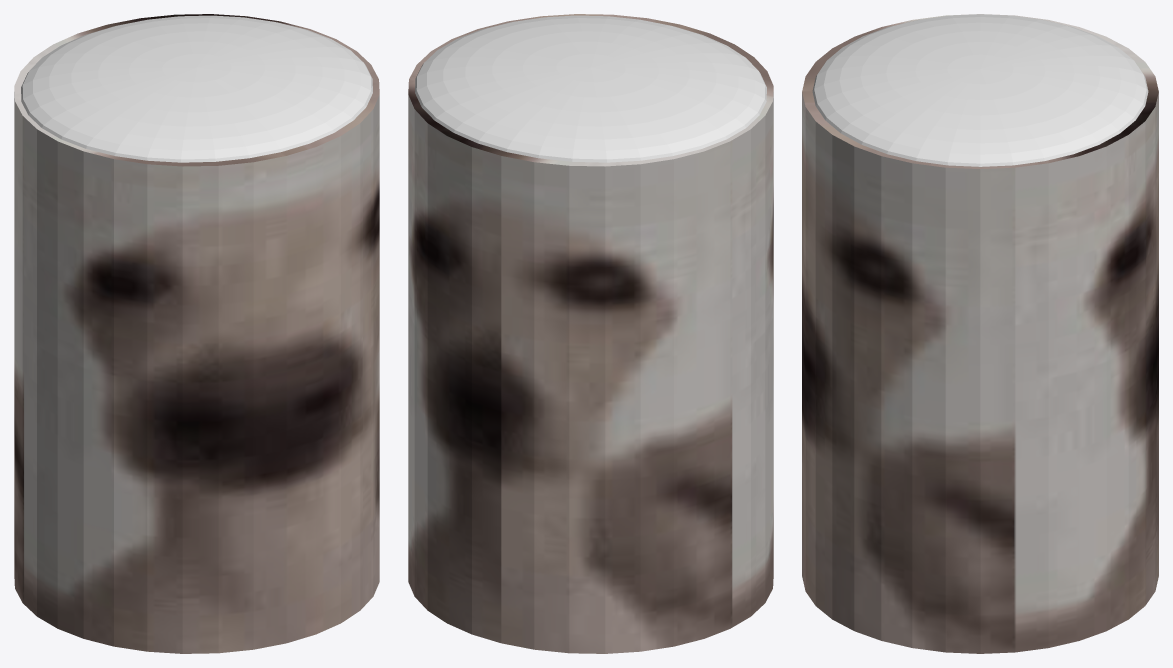
File: dog food 2.fbx
3 renders of one model, left to right at view 1: azimuth 30°, elevation 25°; view 2: azimuth 150°, elevation 25°; view 3: azimuth 270°, elevation 25°, orthographic.
Visible parts, largest first — view 1: Cylinder, Sphere; view 2: Cylinder, Sphere; view 3: Cylinder, Sphere.
Part boxes in pixels (box(x1,y1,x2,y2)): Cylinder: box(14, 14, 379, 653); Sphere: box(21, 15, 372, 162); Cylinder: box(408, 14, 773, 653); Sphere: box(415, 15, 766, 162); Cylinder: box(802, 14, 1158, 653); Sphere: box(812, 14, 1148, 166).
Bounding box in the file's own units: 111 × 169 × 108.
Materials: 2 (1 with a texture image).
